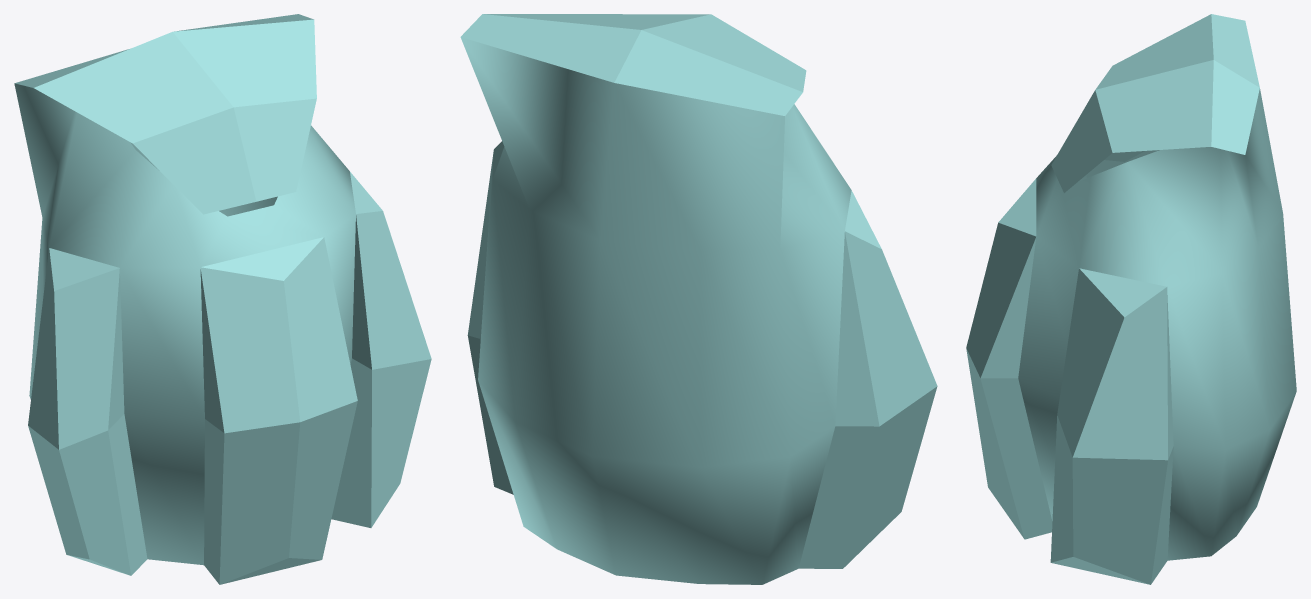
File: backpack_traveller_type.obj
The picture shows the model from 3 angles, left to right: view 1: azimuth 30°, elevation 25°; view 2: azimuth 150°, elevation 25°; view 3: azimuth 270°, elevation 25°; orthographic projection. The views are drawn at different scales.
Visible parts, largest first — view 1: Sphere01; view 2: Sphere01; view 3: Sphere01.
Boxes of the visible parts, <box> form: Sphere01: <box>14,14,431,584</box>; Sphere01: <box>460,14,937,584</box>; Sphere01: <box>966,14,1296,584</box>.
Size of the model in its own units: 34.3 by 43.41 by 27.18.
